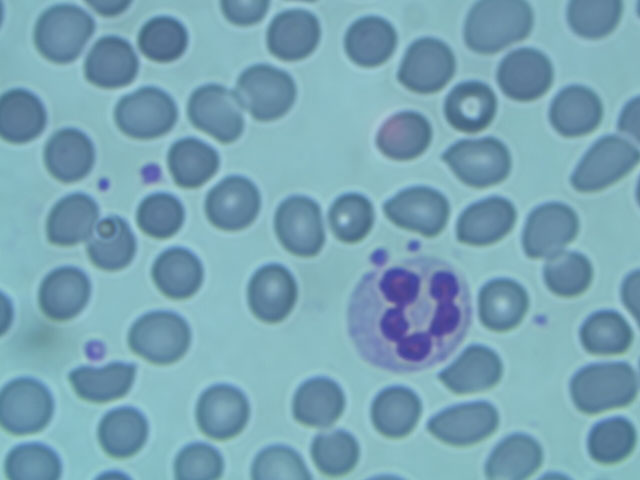Platelets: (133, 156, 167, 189), (88, 167, 117, 197), (83, 333, 109, 365), (396, 235, 425, 256), (529, 307, 551, 334)
RBC: (265, 192, 327, 256), (572, 354, 638, 412), (241, 261, 307, 319), (491, 45, 559, 101), (539, 81, 607, 136), (568, 136, 636, 191), (520, 197, 588, 252), (459, 1, 527, 55), (116, 82, 178, 140), (475, 268, 526, 333), (440, 343, 503, 395), (366, 383, 429, 435), (131, 307, 186, 365), (96, 401, 151, 459), (194, 383, 249, 441), (37, 264, 92, 322), (39, 124, 94, 182), (37, 6, 92, 64), (81, 35, 136, 93), (136, 11, 191, 69), (457, 191, 512, 249), (450, 131, 505, 189), (440, 76, 495, 134), (40, 193, 95, 251), (89, 214, 144, 272), (328, 186, 382, 245), (375, 106, 429, 165), (398, 36, 452, 95), (342, 11, 396, 70), (266, 4, 320, 63), (240, 64, 294, 123), (192, 80, 246, 139), (169, 128, 223, 187), (209, 174, 263, 233), (1, 375, 55, 433), (583, 411, 640, 465), (288, 373, 347, 425), (387, 182, 448, 232), (483, 434, 544, 480), (430, 399, 491, 445), (1, 87, 49, 145), (540, 249, 595, 299), (578, 306, 633, 356), (152, 247, 206, 297), (308, 424, 357, 476), (4, 438, 60, 480), (137, 190, 183, 239)
WBC: (346, 258, 469, 372)
